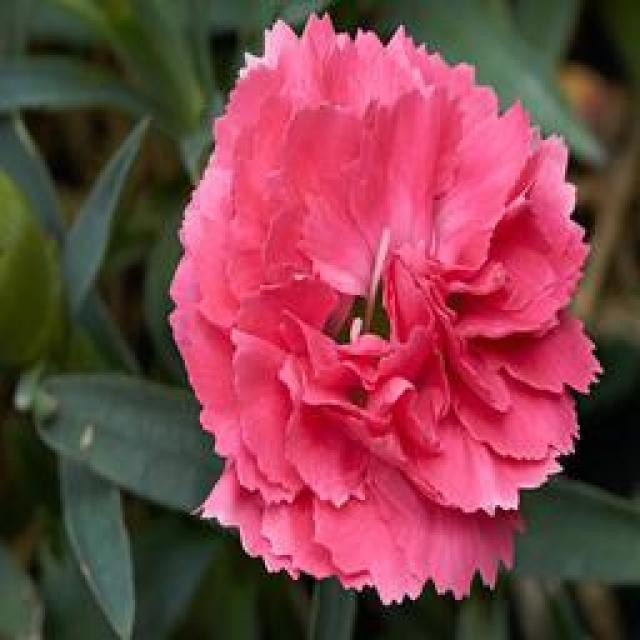carnation: (169, 4, 610, 609)
